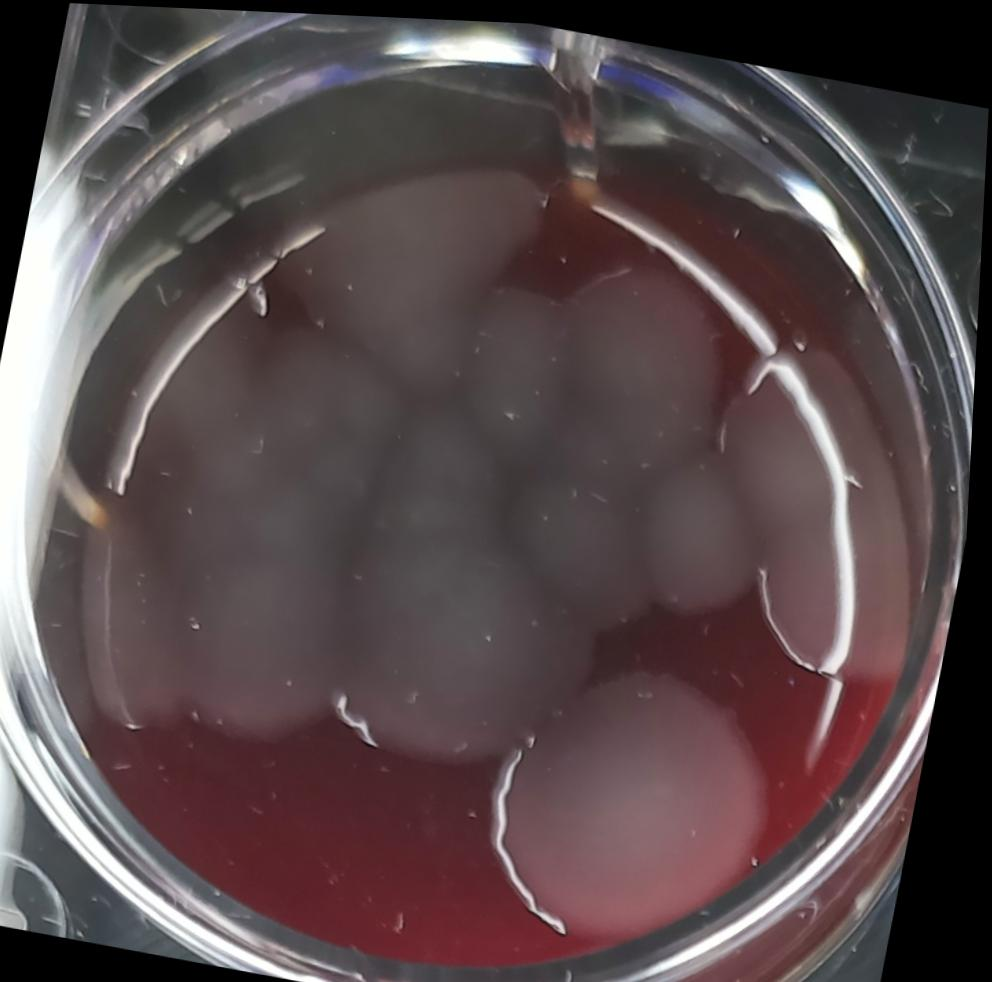valgino: (470, 625, 810, 973), (684, 310, 975, 689), (326, 507, 630, 804), (145, 296, 428, 581), (275, 126, 560, 401), (475, 220, 755, 479), (183, 502, 373, 765), (481, 432, 699, 652), (633, 432, 803, 641), (360, 387, 525, 551)
